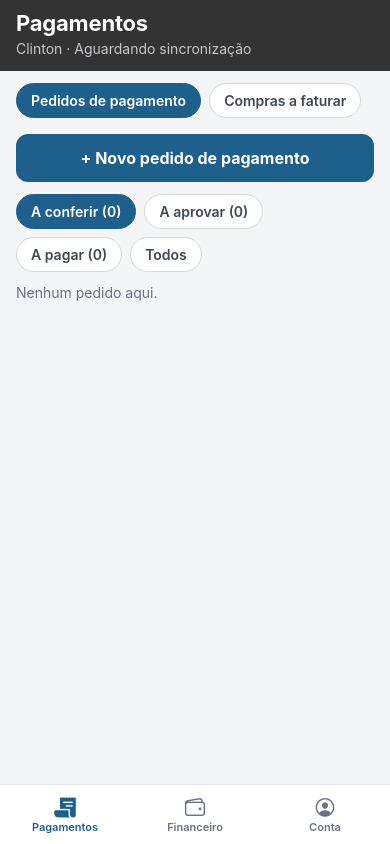
terceirizados e filtros de pagamentos na tela › encerrar sem fechar o valor exige a justificativa
The image size is (390, 844).
Click the element with test id "pilar-pagamentos".
click(65, 815)  # box [32, 796, 98, 834]
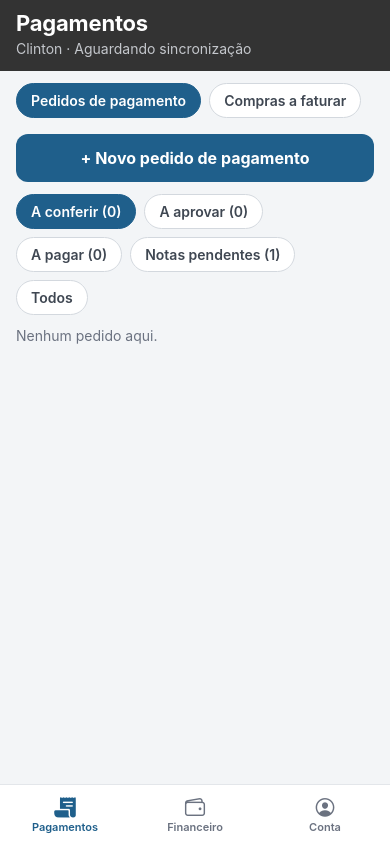
Click the element with test id "pedidos-notas".
click(213, 254)  # box [130, 237, 296, 272]
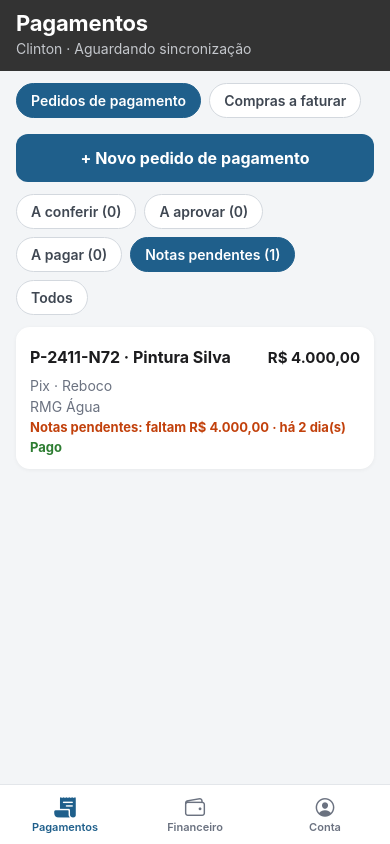
Click the element that starts with "P-2411-N72".
click(195, 398)  # box [16, 327, 374, 469]
(page scrolled)
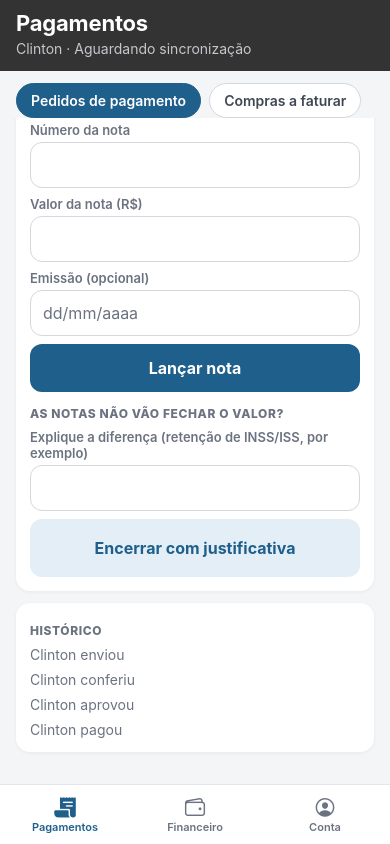
Click the element with test id "encerrar-notas".
click(195, 548)  # box [30, 519, 360, 577]
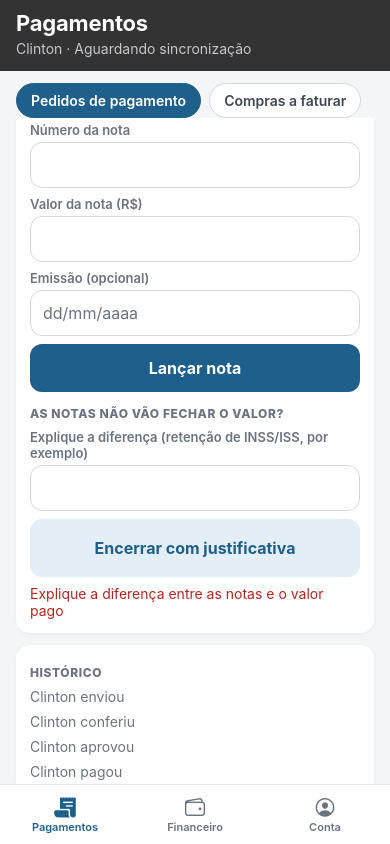
Now the text "Explique a diferença entre as notas e o valor pago" is shown, box [30, 585, 360, 619]
Type "Retenção de INSS" into the field with test id "notas-justificativa".
click(195, 488); type("Retenção de INSS")  # box [30, 465, 360, 511]
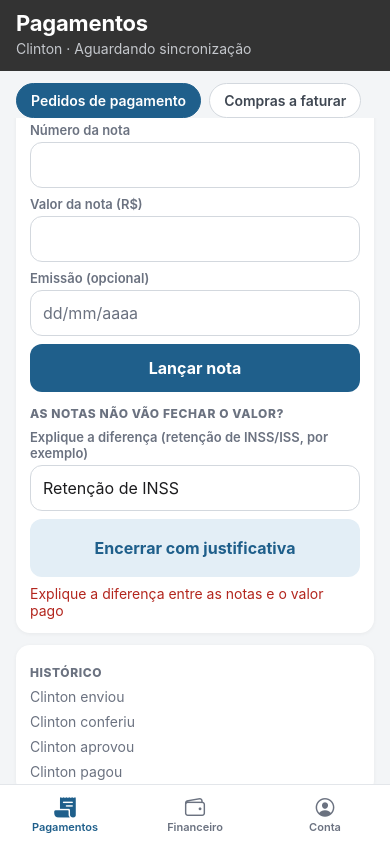
Click the element with test id "encerrar-notas".
click(195, 548)  # box [30, 519, 360, 577]
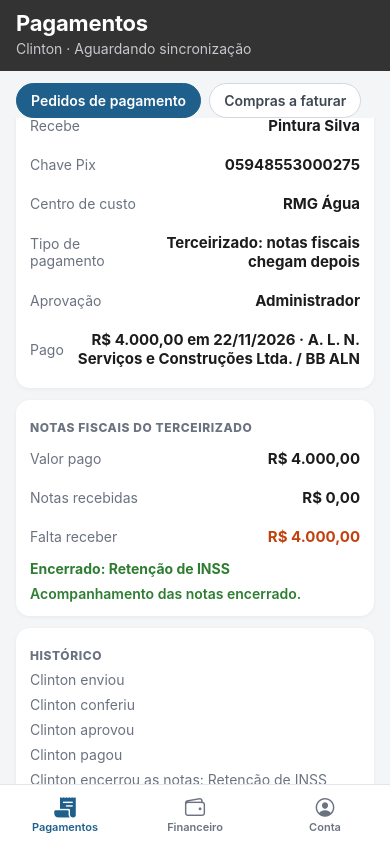
Now the text "Acompanhamento das notas encerrado." is shown, box [30, 585, 301, 602]
